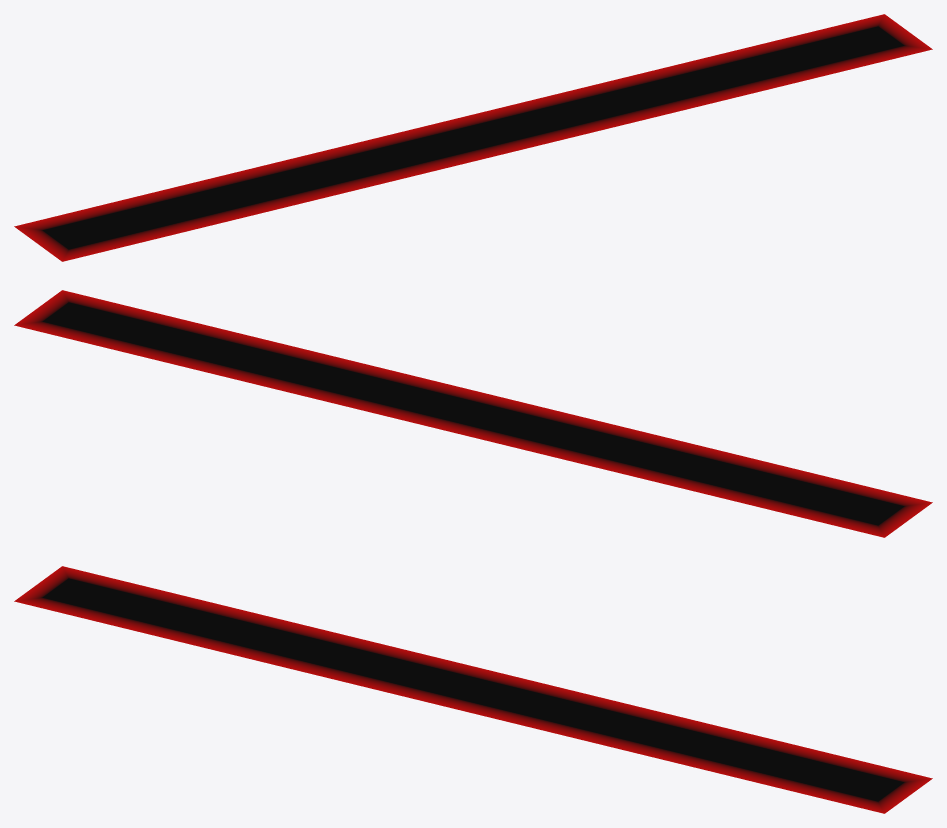
The model's file is Noue_Water_Test_01.fbx.
The picture shows the model from 3 angles, top to bottom: view 1: azimuth 30°, elevation 25°; view 2: azimuth 150°, elevation 25°; view 3: azimuth 330°, elevation 25°; orthographic projection.
Visible parts, largest first — view 1: Noue_Water_Test_01; view 2: Noue_Water_Test_01; view 3: Noue_Water_Test_01.
Boxes of the visible parts, x1,y1,x2,y2 form: Noue_Water_Test_01: (14, 14, 932, 261); Noue_Water_Test_01: (14, 290, 932, 537); Noue_Water_Test_01: (14, 566, 932, 813).
Size of the model in its own units: 60.97 by 0 by 5.86.
